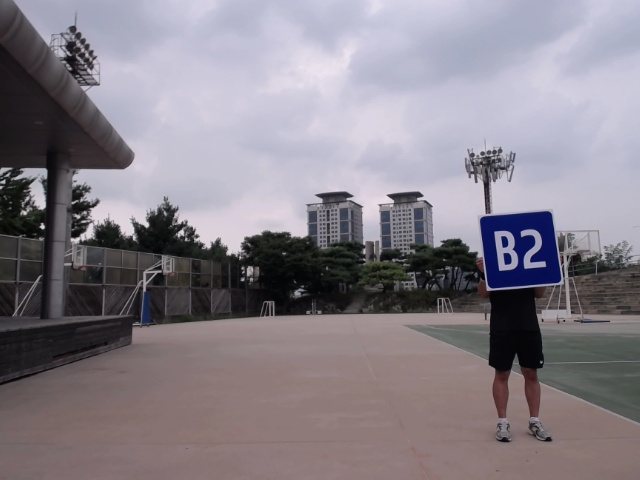delivery_b2: (478, 209, 566, 291)
